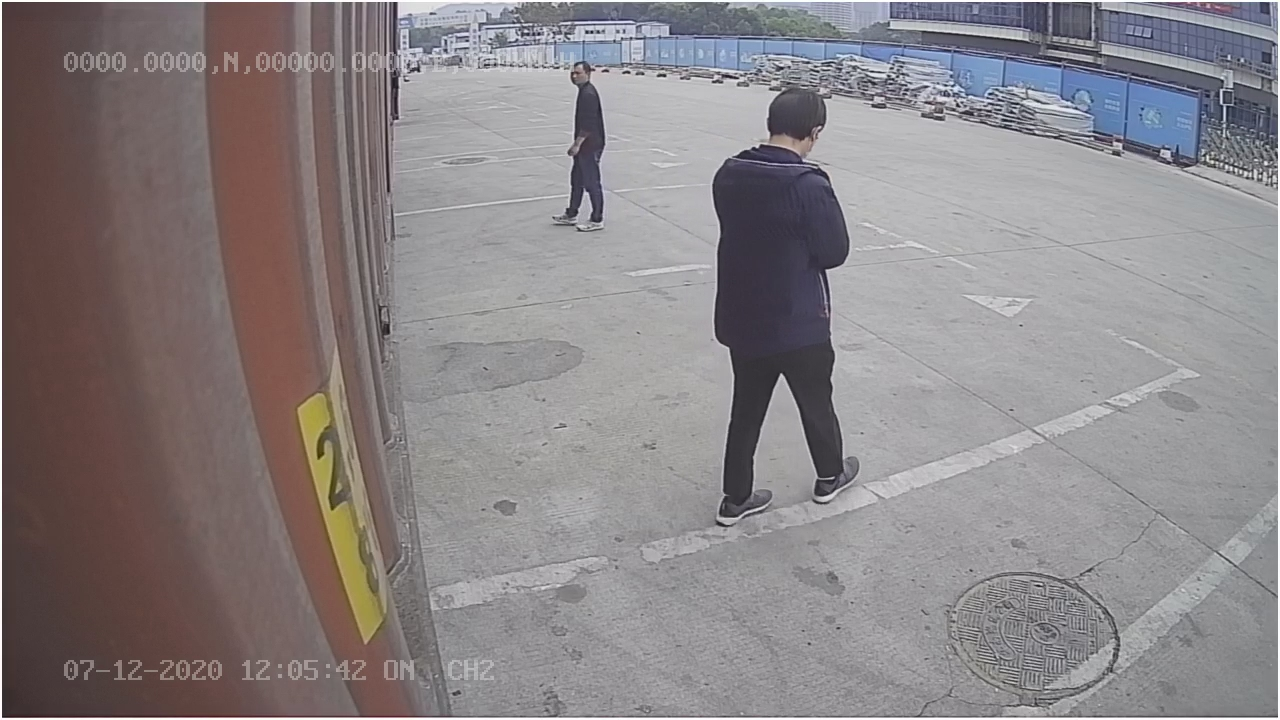person: (707, 77, 861, 525)
